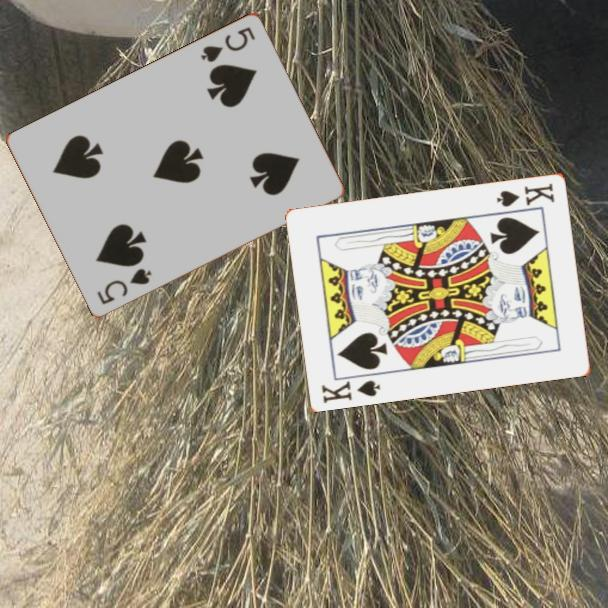s05: (93, 265, 155, 308), (197, 24, 258, 66)
s13: (493, 179, 558, 210), (318, 376, 383, 406)
